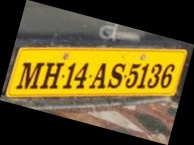character: (14, 61, 44, 89), (39, 61, 64, 89), (107, 62, 125, 89), (89, 62, 106, 89), (124, 63, 140, 88), (73, 62, 88, 88), (146, 63, 161, 88), (62, 62, 75, 90), (136, 63, 150, 89), (160, 64, 175, 88)
